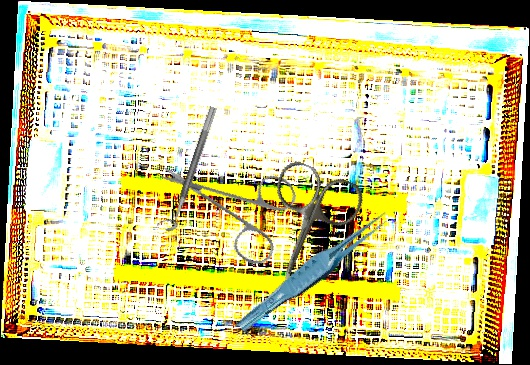Fixation Ring: (156, 102, 218, 234)
Iris Scissors: (158, 128, 314, 286), (244, 156, 369, 296)
Tissue Forceps: (229, 209, 400, 334)
